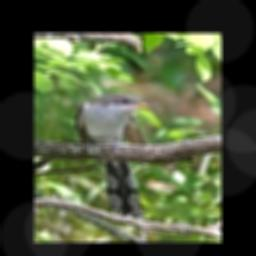Cuckoo: (75, 91, 156, 217)
